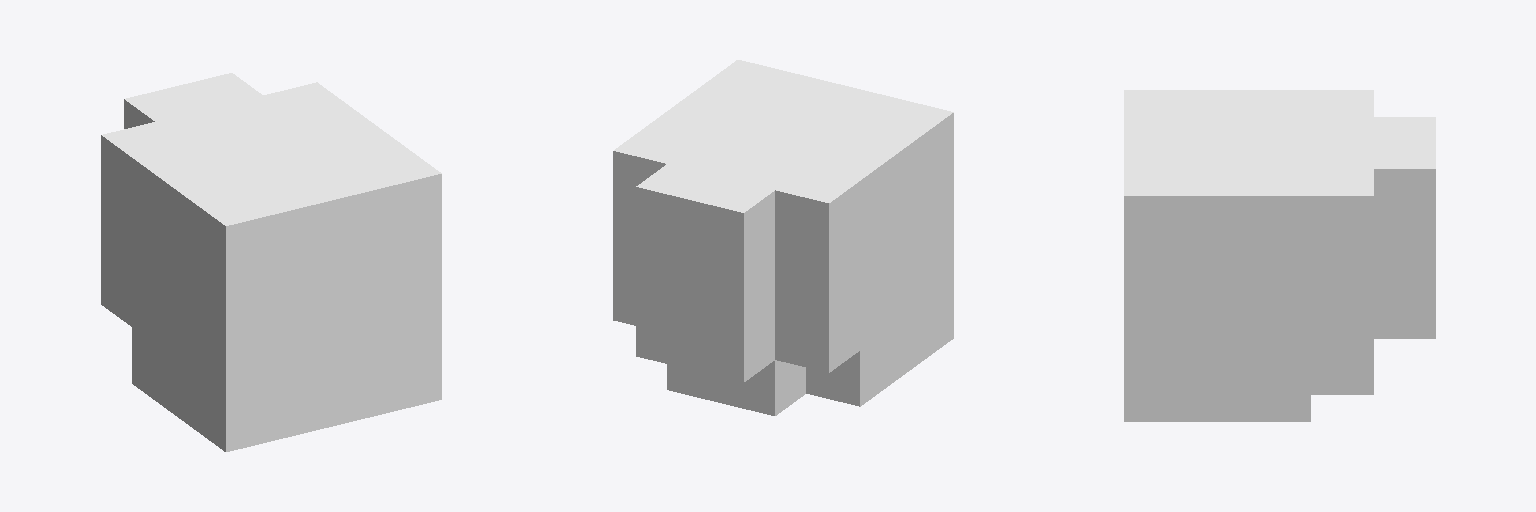
Rendered from puppetneonHead.obj.
3 renders of one model, left to right at view 1: azimuth 30°, elevation 25°; view 2: azimuth 150°, elevation 25°; view 3: azimuth 270°, elevation 25°, orthographic.
Visible parts, largest first — view 1: puppetneonHead; view 2: puppetneonHead; view 3: puppetneonHead.
Part boxes in pixels (left/top/right/bottom): puppetneonHead: left=101, top=73, right=441, bottom=451; puppetneonHead: left=613, top=60, right=953, bottom=415; puppetneonHead: left=1124, top=90, right=1435, bottom=421.
Size of the model in its own units: 4 by 4 by 5.